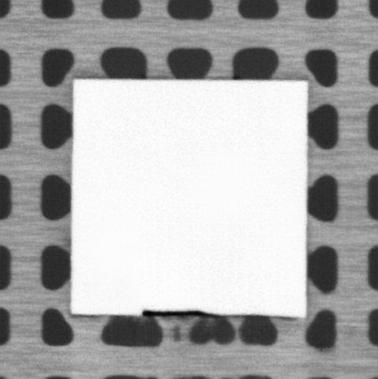DIE_BROKEN: (139, 307, 218, 317)
